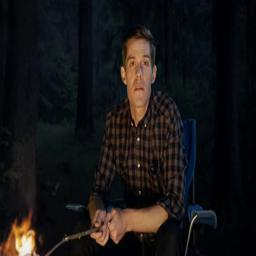fire: (1, 205, 41, 256)
